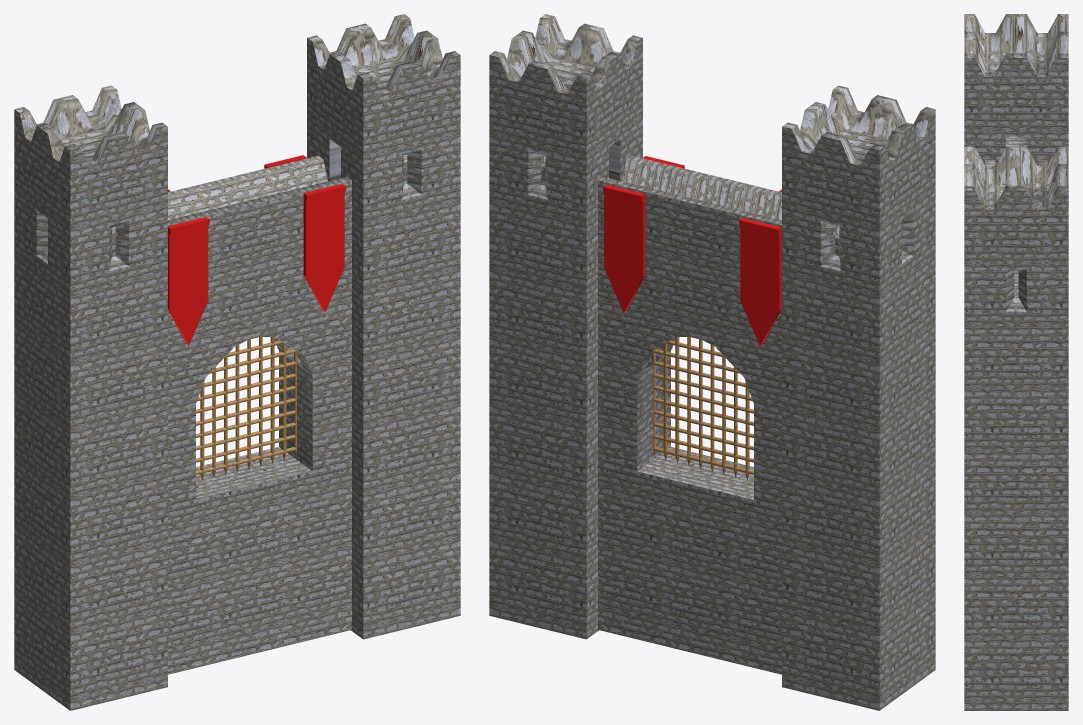
Rendered from EnteranceCloser.FBX.
3 views of the same model, side by side, from view 1: azimuth 30°, elevation 25°; view 2: azimuth 150°, elevation 25°; view 3: azimuth 270°, elevation 25° (orthographic). The views are drawn at different scales.
Parts seen in each view (by area): view 1: SidePost, SidePostRight, CenterWall, Flag001, Flag; view 2: SidePost, SidePostRight, CenterWall, Flag002, Flag003; view 3: SidePostRight, SidePost, CenterWall.
Part boxes in pixels (left/top/right/bottom): SidePost: left=14, top=85, right=167, bottom=710; SidePostRight: left=307, top=14, right=460, bottom=639; CenterWall: left=112, top=155, right=407, bottom=674; Flag001: left=303, top=184, right=345, bottom=311; Flag: left=168, top=217, right=209, bottom=345; SidePost: left=782, top=85, right=935, bottom=710; SidePostRight: left=489, top=14, right=642, bottom=639; CenterWall: left=541, top=155, right=839, bottom=674; Flag002: left=739, top=218, right=781, bottom=346; Flag003: left=603, top=184, right=645, bottom=312; SidePostRight: left=964, top=146, right=1068, bottom=710; SidePost: left=964, top=14, right=1068, bottom=165; CenterWall: left=985, top=136, right=1047, bottom=297.
Size of the model in its own units: 100 by 138 by 25.
